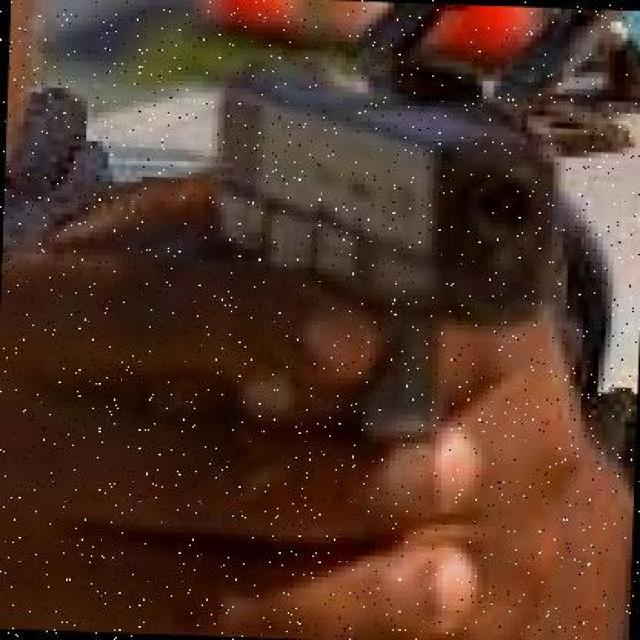rifle: (181, 52, 567, 307)
